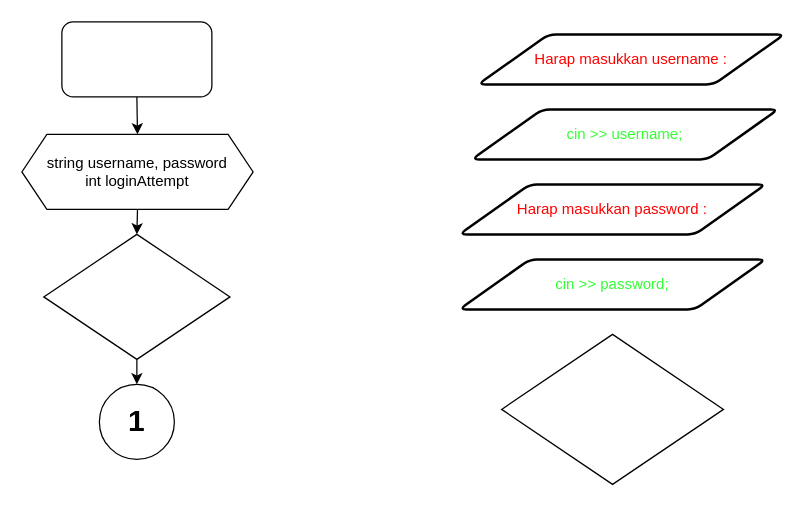
Some shapes in this 808 by 506 pixel diagram are drawn without their labels. The centre of each missing label's shape, as x and y in pixels:
"loginAttempt <=5" goes at (x=136, y=296).
"Start" goes at (x=136, y=59).
"username == rizqi && password ==123" goes at (x=612, y=408).
